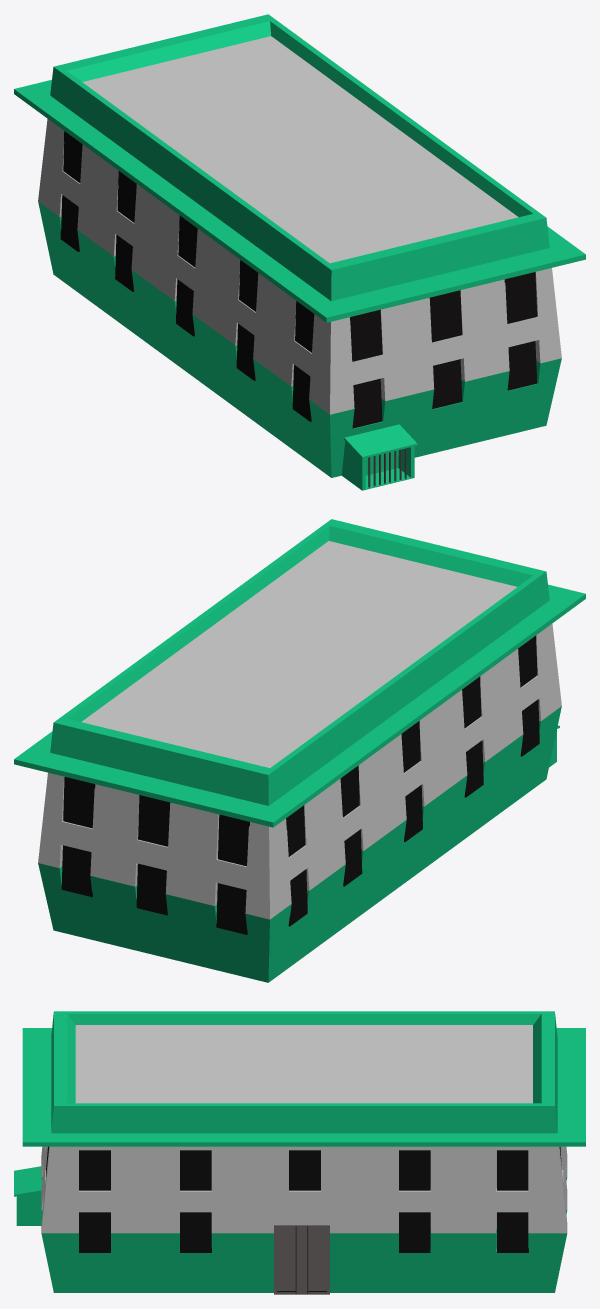
The picture shows the model from 3 angles, top to bottom: view 1: azimuth 30°, elevation 25°; view 2: azimuth 150°, elevation 25°; view 3: azimuth 270°, elevation 25°; orthographic projection. The views are drawn at different scales.
Visible parts, largest first — view 1: Cube005; view 2: Cube005; view 3: Cube005.
Part boxes in pixels (bbox=[...]): Cube005: bbox=[14, 14, 585, 490]; Cube005: bbox=[14, 519, 585, 982]; Cube005: bbox=[14, 1011, 585, 1294].
Size of the model in its own units: 6.25 by 4.79 by 13.24.
